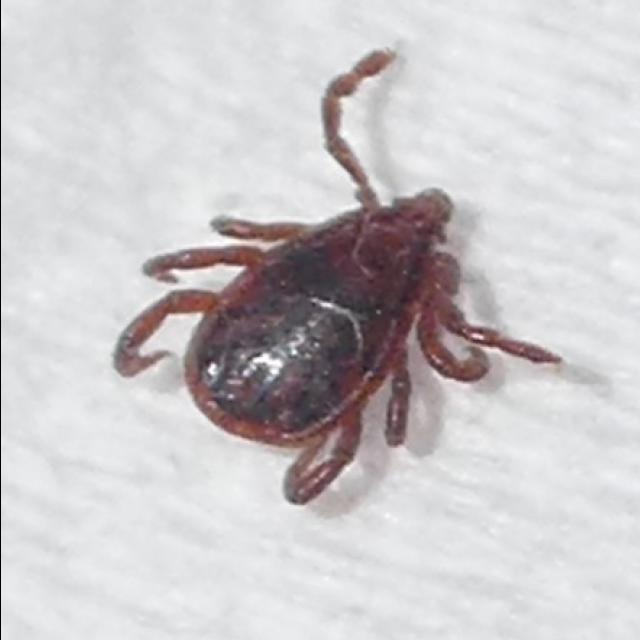Rhipicephalus Sanguineus-M: (109, 50, 560, 508)
